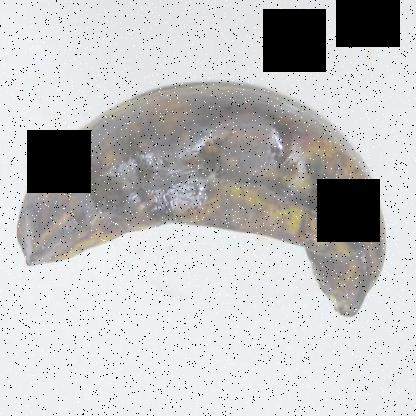rotten: (1, 60, 393, 336)
